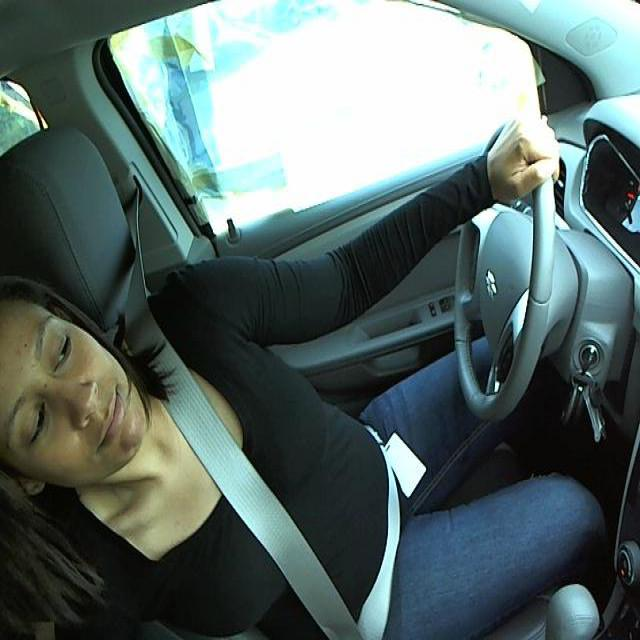seatbelt: (159, 389, 405, 639)
